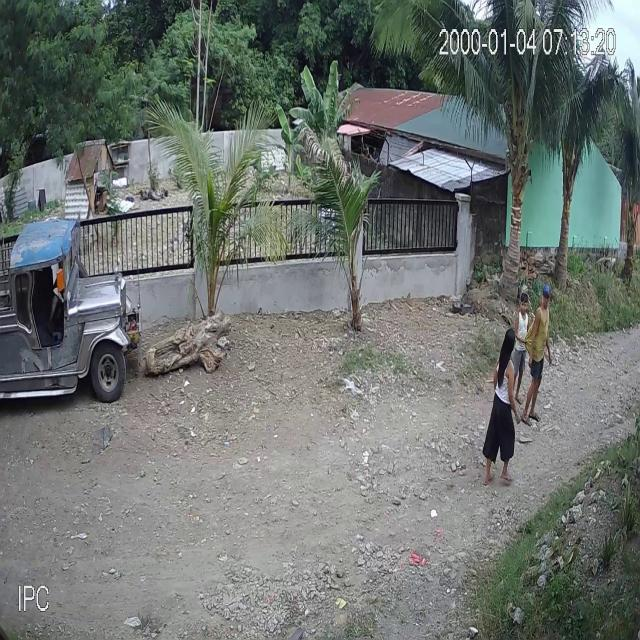standing: (521, 281, 553, 430), (509, 293, 531, 412)
walking: (480, 326, 520, 487)
